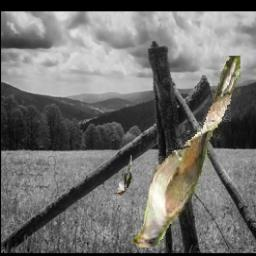Cuckoo: (133, 57, 241, 250), (113, 154, 132, 196)
